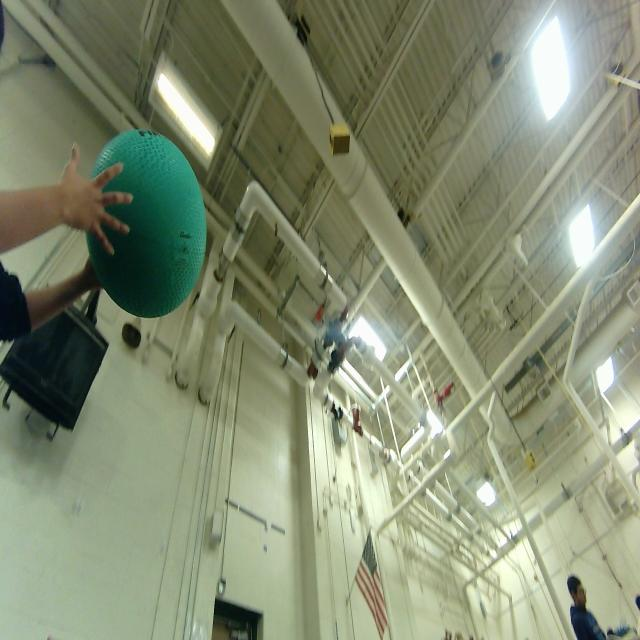algae: (87, 128, 211, 318)
